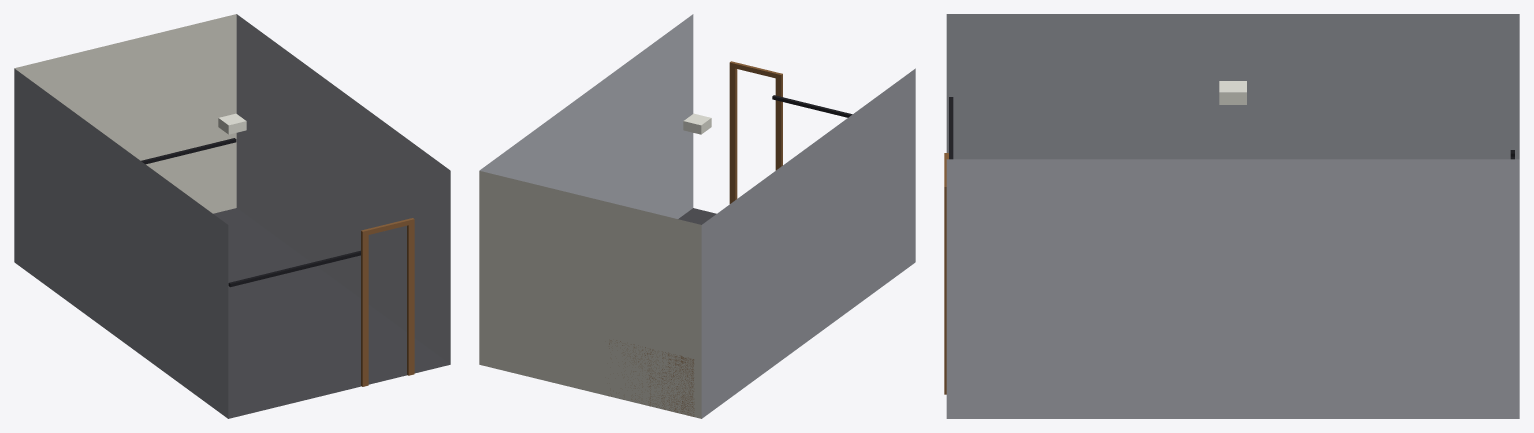
File: room.obj
3 renders of one model, left to right at view 1: azimuth 30°, elevation 25°; view 2: azimuth 150°, elevation 25°; view 3: azimuth 270°, elevation 25°, orthographic. The views are drawn at different scales.
Size of the model in its own units: 300 by 250 by 502.
